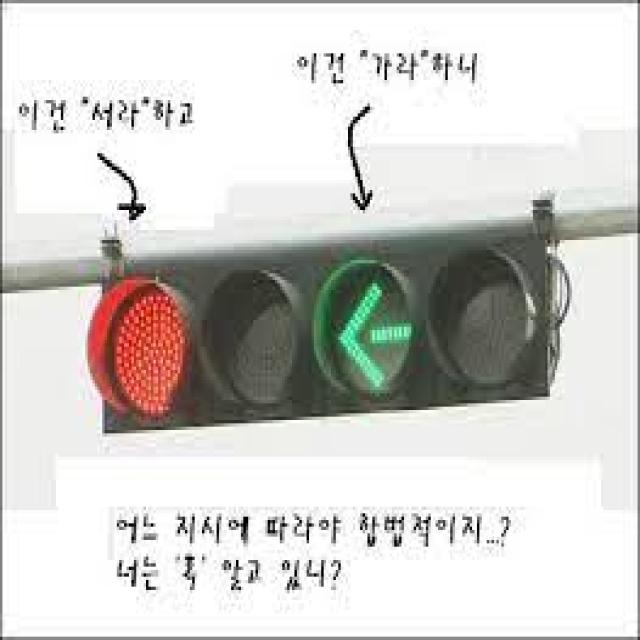Red Light: (84, 273, 198, 430)
